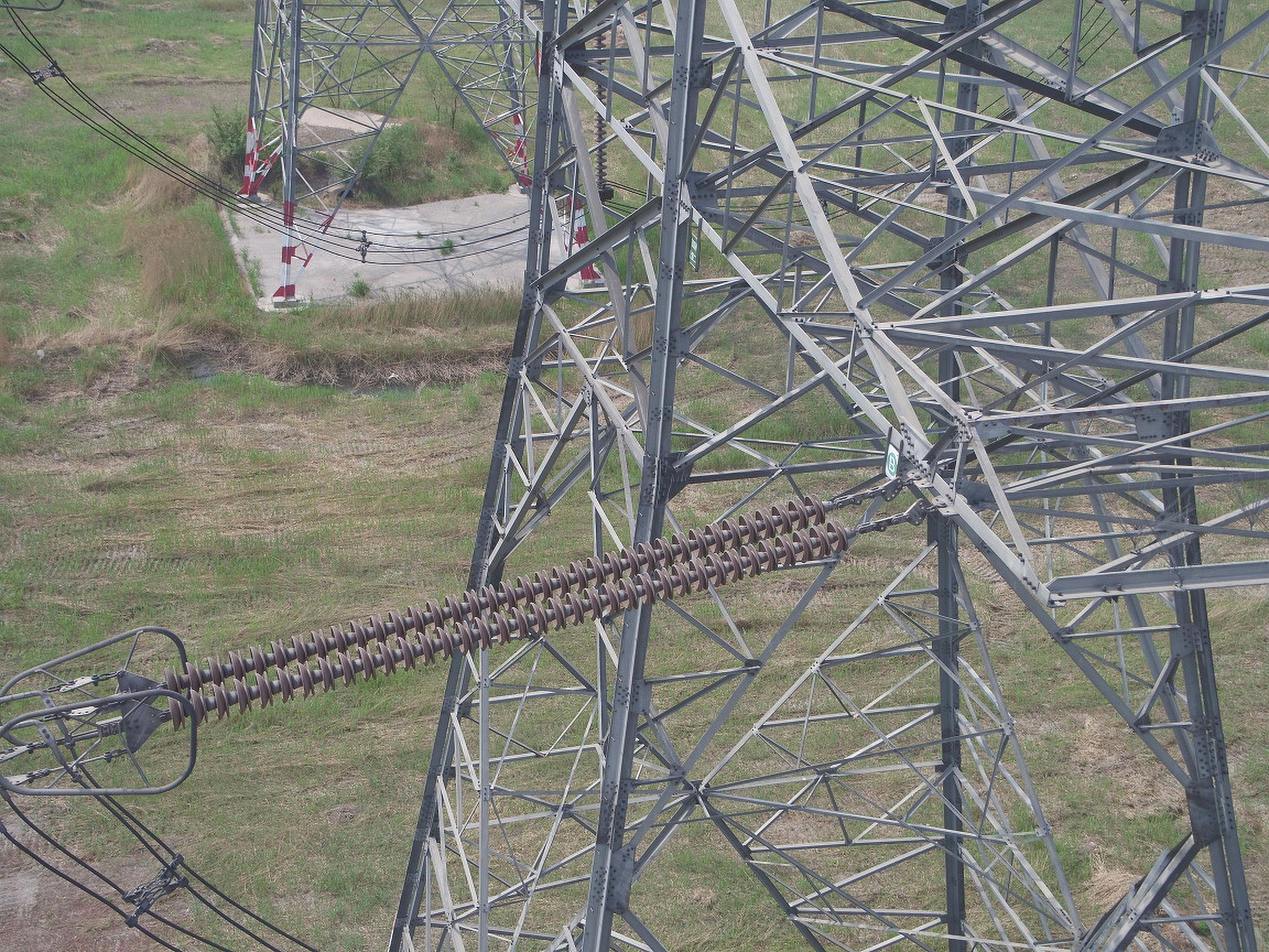insulator: (159, 490, 854, 734), (592, 32, 610, 187)
